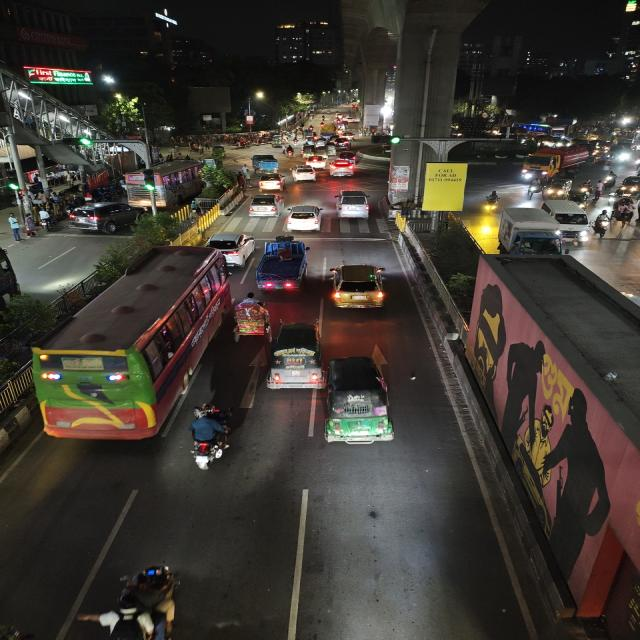bus: (32, 245, 229, 449), (122, 160, 207, 207), (511, 122, 570, 138)
car: (327, 261, 388, 313), (67, 201, 138, 233), (207, 230, 254, 266), (546, 200, 590, 234), (332, 188, 373, 222), (285, 203, 324, 233), (248, 192, 282, 220), (325, 155, 358, 179), (256, 172, 285, 192), (290, 164, 317, 183), (307, 153, 328, 168), (331, 135, 353, 149)
cng: (321, 352, 396, 452), (264, 319, 326, 395), (542, 177, 573, 200), (618, 174, 640, 196), (208, 144, 228, 158)
motorcycle: (105, 561, 192, 640), (183, 402, 236, 470), (480, 190, 503, 216), (595, 208, 612, 239), (604, 169, 618, 185), (283, 144, 296, 158)
pedestrian: (7, 211, 24, 241), (37, 205, 54, 231), (236, 168, 249, 190), (595, 180, 605, 201)
pickup_van: (255, 237, 312, 296), (250, 153, 282, 173)
rickshaw: (231, 295, 272, 341), (612, 196, 637, 227)
truck: (496, 208, 560, 260), (520, 147, 591, 181)
